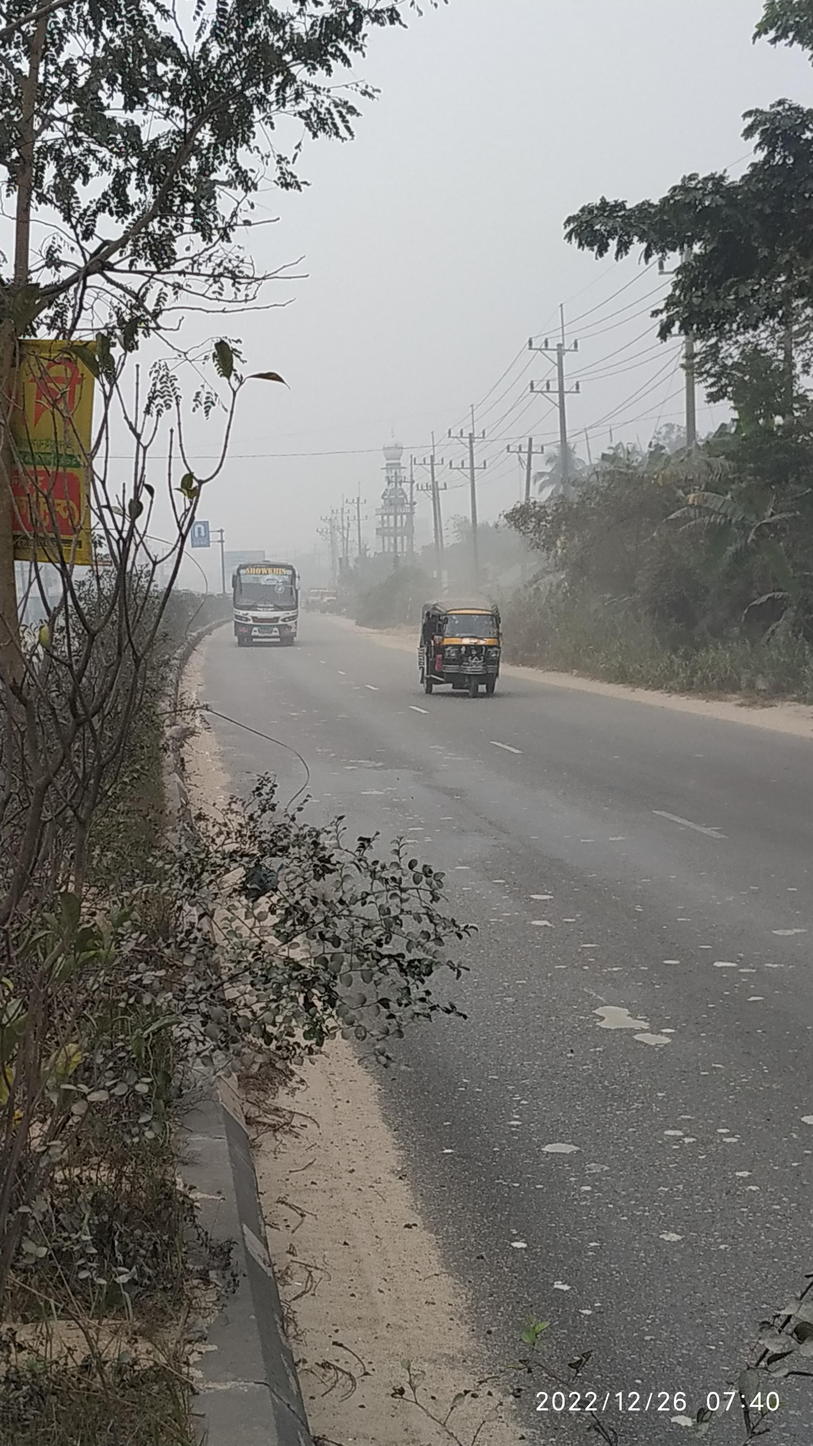Bus: (218, 549, 314, 655)
